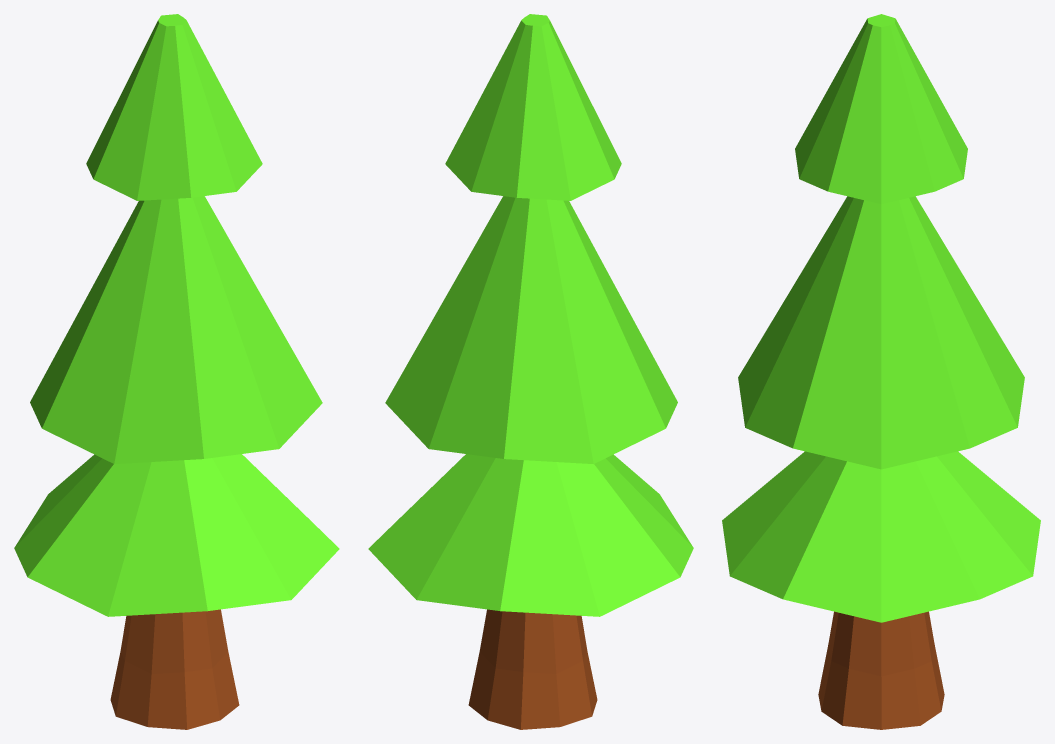
The model's file is tree.glb.
The picture shows the model from 3 angles, left to right: view 1: azimuth 30°, elevation 25°; view 2: azimuth 150°, elevation 25°; view 3: azimuth 270°, elevation 25°; orthographic projection.
Visible parts, largest first — view 1: Icosphere; view 2: Icosphere; view 3: Icosphere.
Boxes of the visible parts, x1,y1,x2,y2 form: Icosphere: [14, 14, 339, 729]; Icosphere: [368, 14, 693, 729]; Icosphere: [722, 14, 1040, 729].
Size of the model in its own units: 0.8633 by 1.99 by 0.8416.
